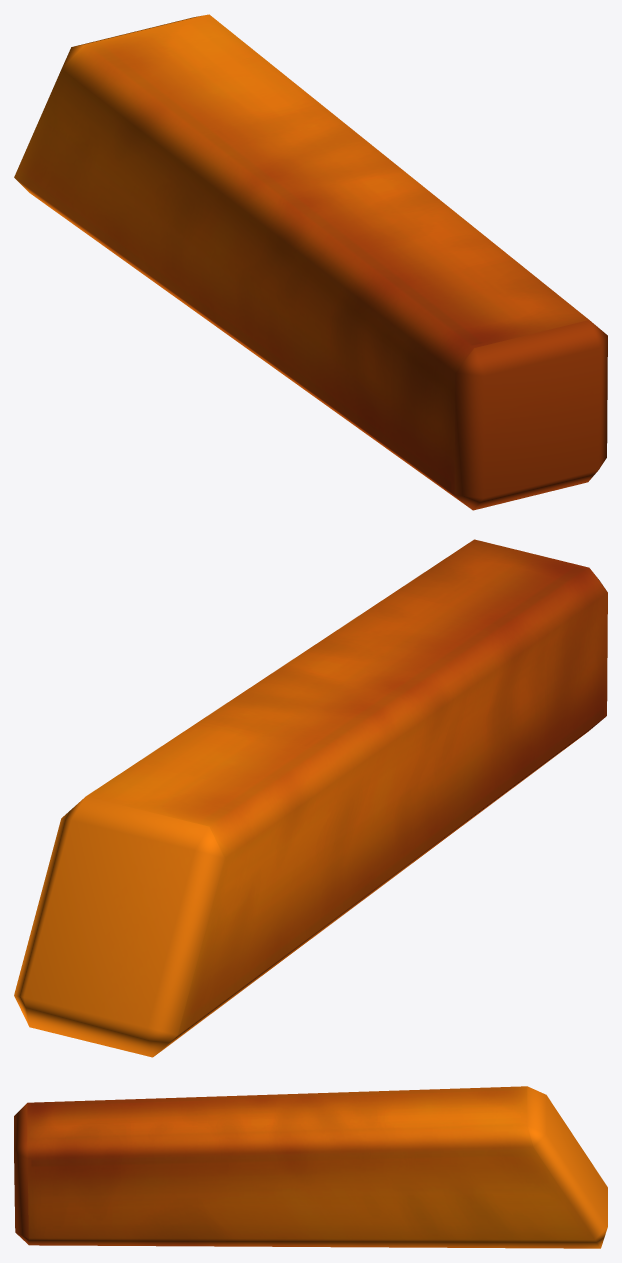
The model's file is YamFry.fbx.
3 views of the same model, one above another, from view 1: azimuth 30°, elevation 25°; view 2: azimuth 150°, elevation 25°; view 3: azimuth 270°, elevation 25° (orthographic). The views are drawn at different scales.
Visible parts, largest first — view 1: YamFry; view 2: YamFry; view 3: YamFry.
Part boxes in pixels (x1,y1,x2,y2): YamFry: (14, 14, 607, 510); YamFry: (14, 539, 607, 1057); YamFry: (14, 1086, 607, 1248).
Size of the model in its own units: 8.1 by 8.98 by 39.12.
